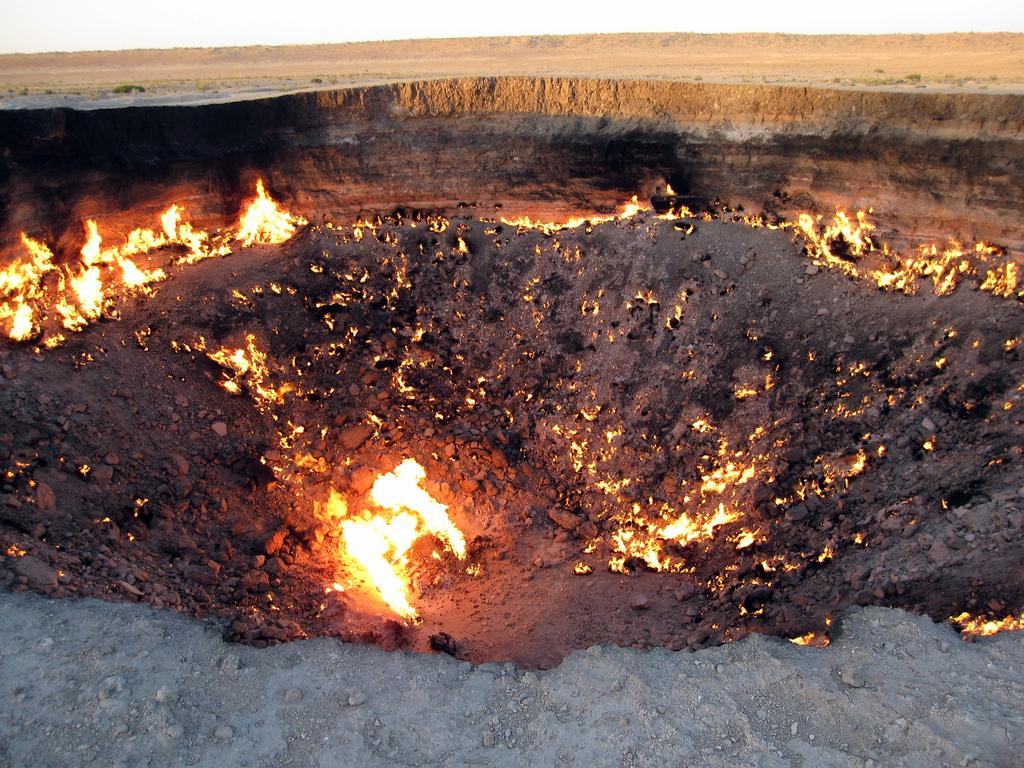fire: (356, 458, 434, 600), (154, 190, 288, 256), (10, 234, 106, 322)
